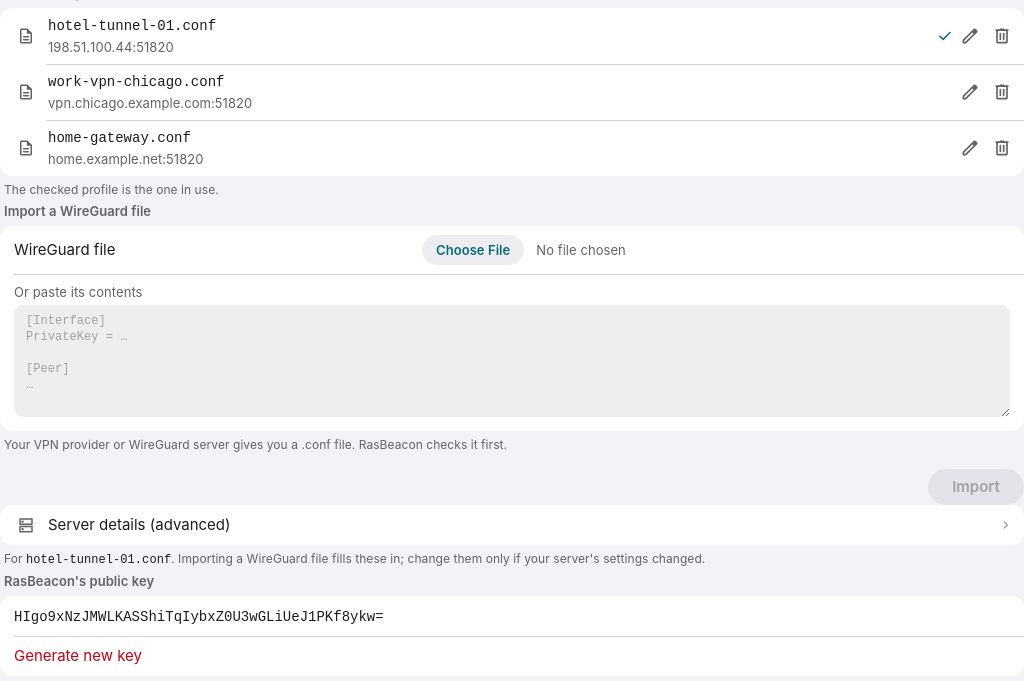
Test: server details › shows the imported settings, and saves a change with the keys left empty
(page scrolled)
Click the heading "Server details (advanced)" at (139, 524), box [17,515,1014,534]
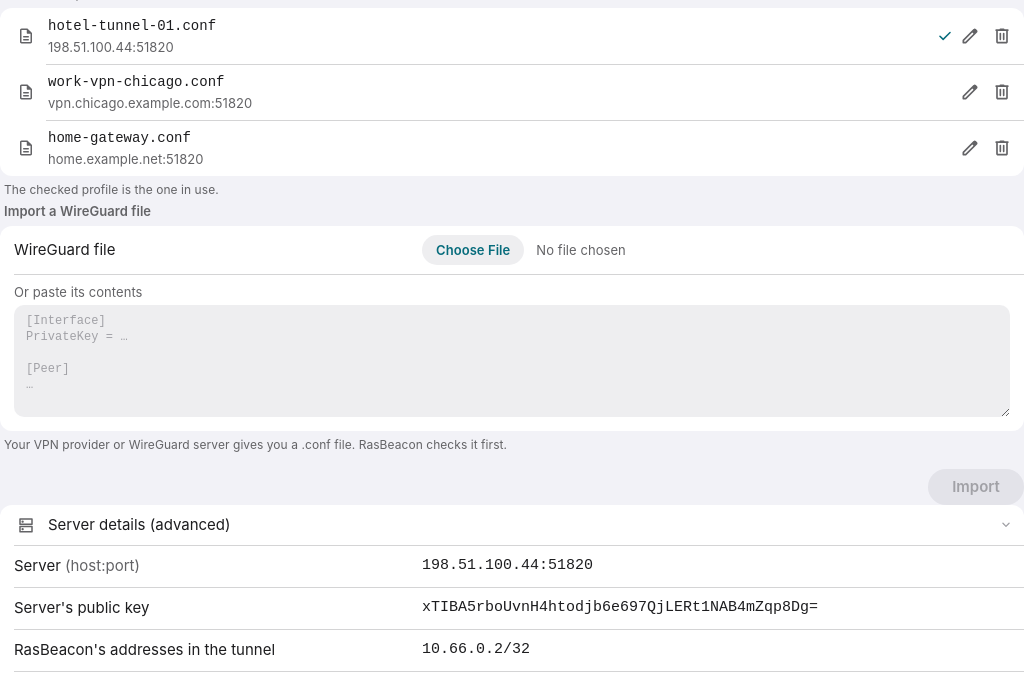
Now the field labelled "Server (host:port)" holds "198.51.100.44:51820"
Replace the text in the field labelled "Server (host:port)" with "vpn.example.com:51820" at (716, 566), box [422,554,1010,578]
(page scrolled)
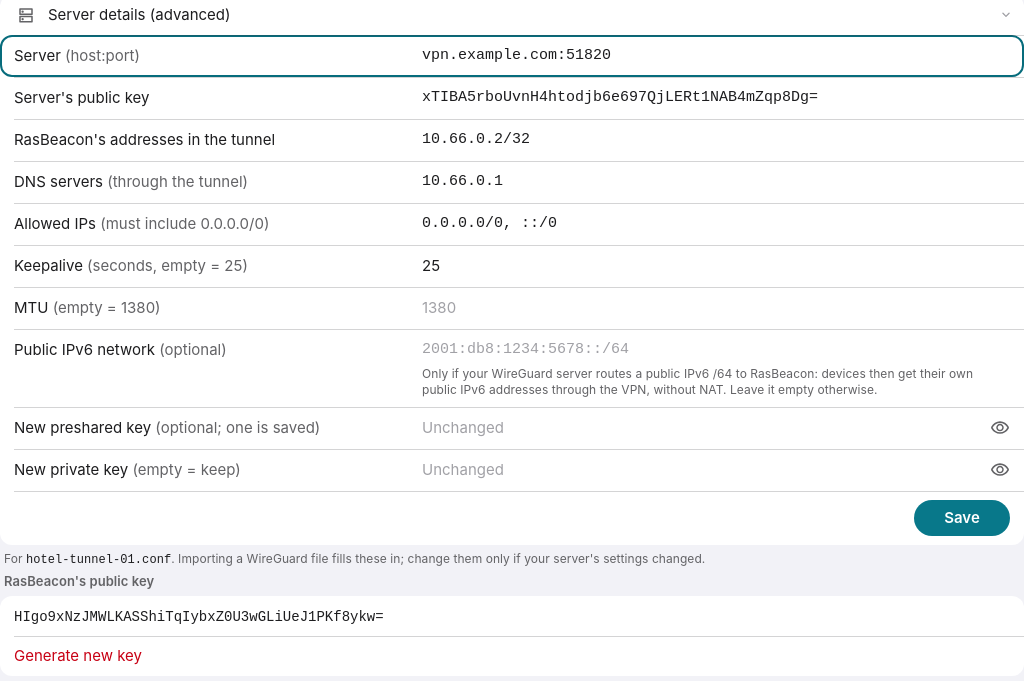
Click the button "Save" at (962, 518), box [914,500,1010,536]
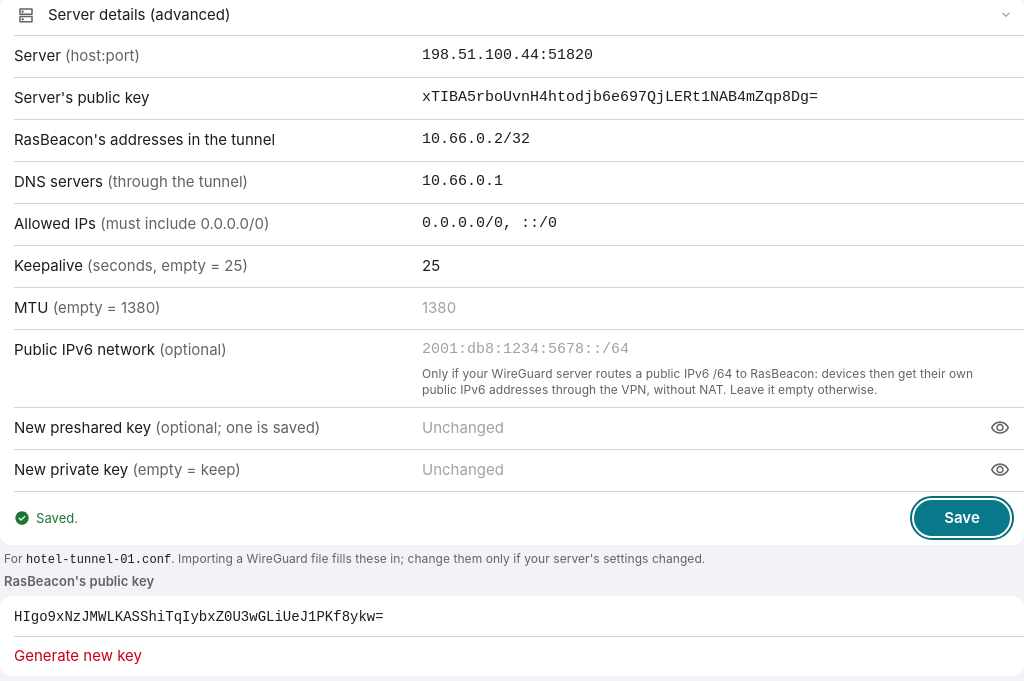
Now the text "Saved." is shown, box [36,509,78,527]
